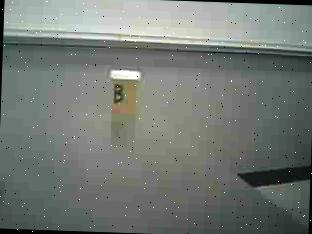Bottle B: (103, 65, 148, 119)
